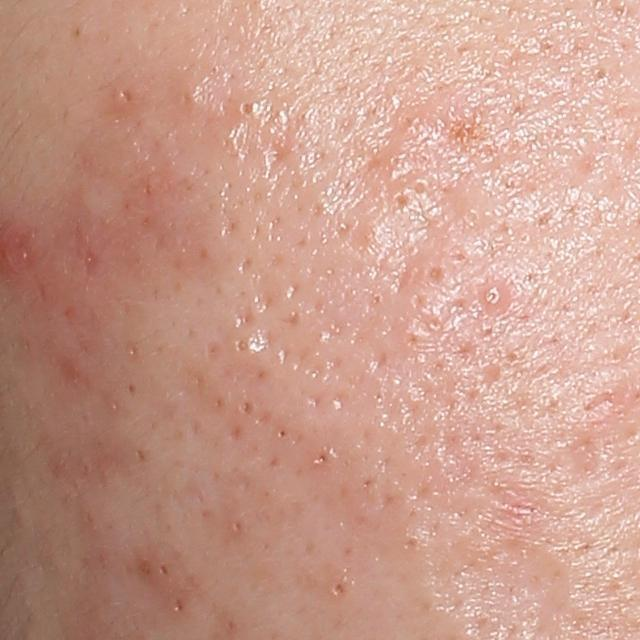atrophic_scar: (551, 438, 603, 489)
comedo: (422, 259, 454, 287), (233, 94, 262, 122), (327, 580, 352, 606), (273, 421, 292, 442), (231, 516, 248, 537), (237, 397, 254, 417), (158, 560, 170, 577)
